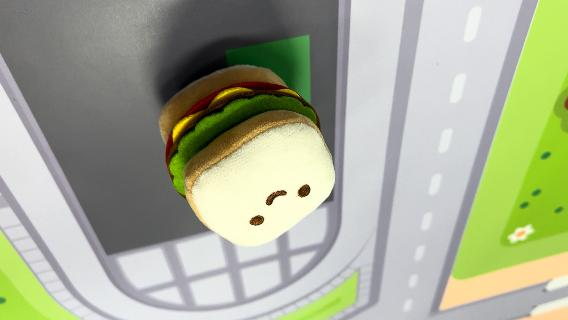sandwich: (156, 62, 338, 248)
